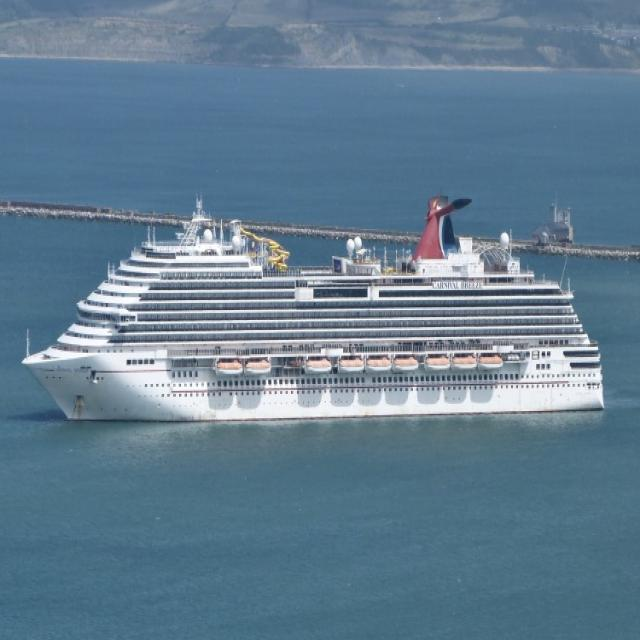cruises: (19, 186, 609, 436)
